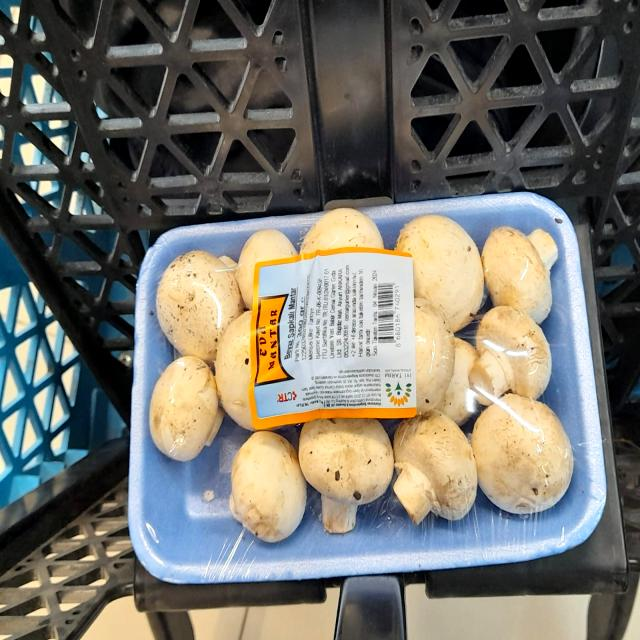mushroom: (291, 391, 402, 544), (471, 386, 583, 526), (390, 396, 486, 534), (150, 246, 248, 366), (459, 300, 555, 410), (143, 354, 231, 469), (481, 208, 564, 326)
